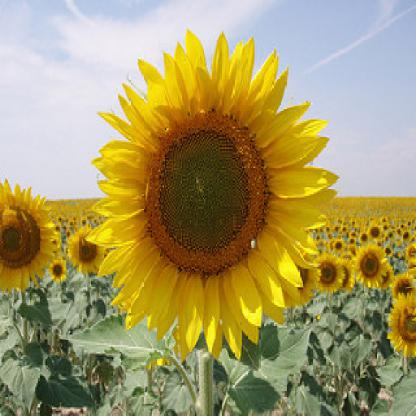SUN FLOWER: (74, 8, 349, 374), (1, 122, 65, 377), (355, 171, 416, 394)
